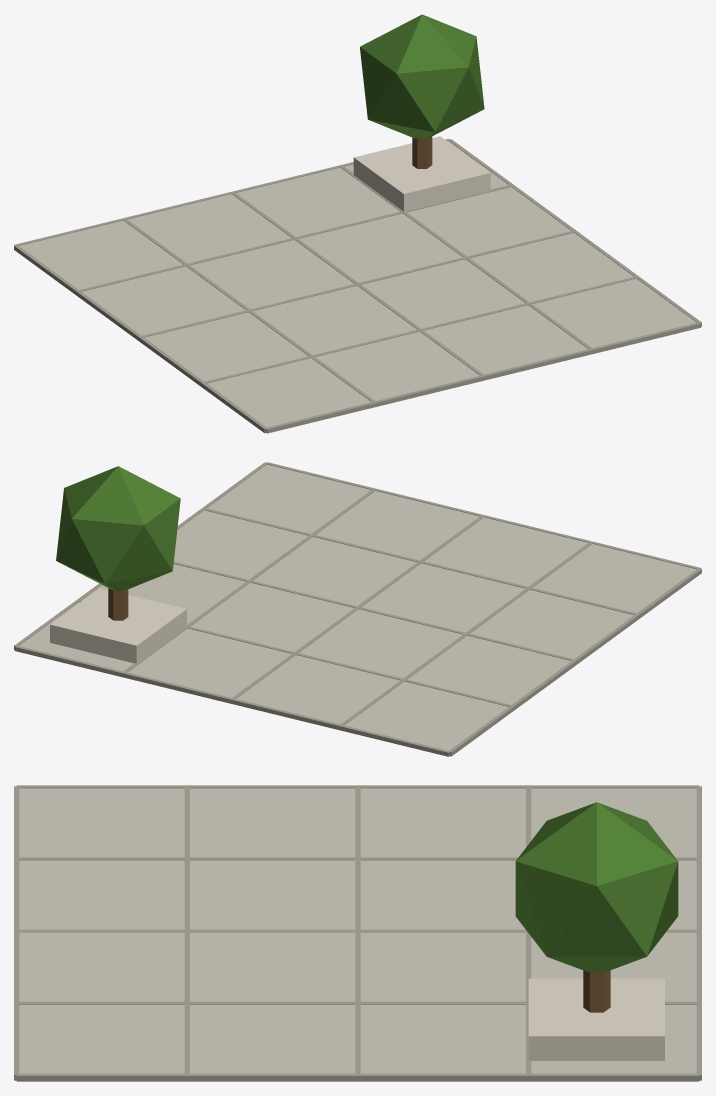
The model's file is road.plaza-tile.glb.
The picture shows the model from 3 angles, top to bottom: view 1: azimuth 30°, elevation 25°; view 2: azimuth 150°, elevation 25°; view 3: azimuth 270°, elevation 25°; orthographic projection. The views are drawn at different scales.
Parts seen in each view (by area): view 1: road.plaza-tile; view 2: road.plaza-tile; view 3: road.plaza-tile.
Part boxes in pixels (x1,y1,x2,y2): road.plaza-tile: (14,14,701,433); road.plaza-tile: (14,462,701,756); road.plaza-tile: (14,785,701,1081).
Size of the model in its own units: 10.08 by 3.8 by 10.08.
